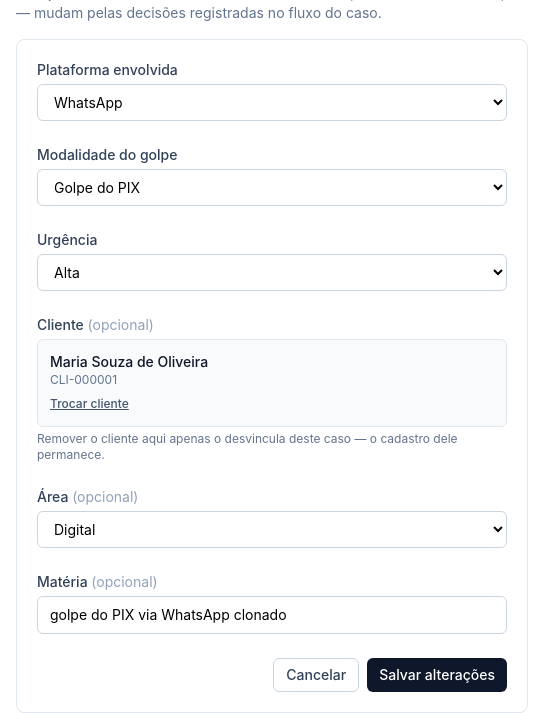
Test case: EditCasePage › mostra a mensagem do backend e não redireciona quando o salvamento falha
(page scrolled)
Expected: the field labelled "Matéria (opcional)" is shown, [37,596,507,634]
Click the button "Salvar alterações".
click(437, 675)  # box [367,658,507,692]
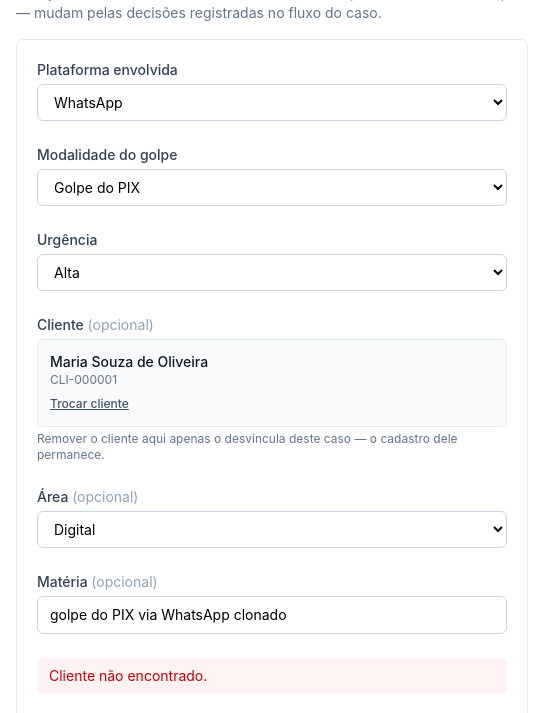
Expected: the message reads "Cliente não encontrado.", [49,667,207,684]
